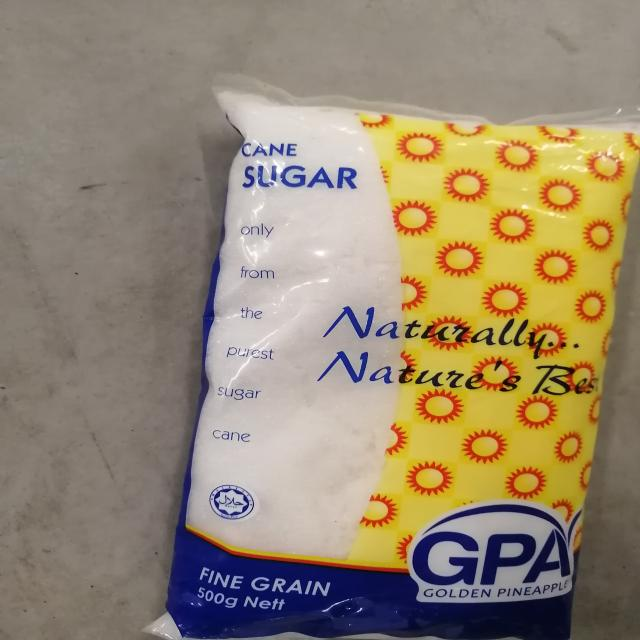object_name: (220, 95, 579, 640)
